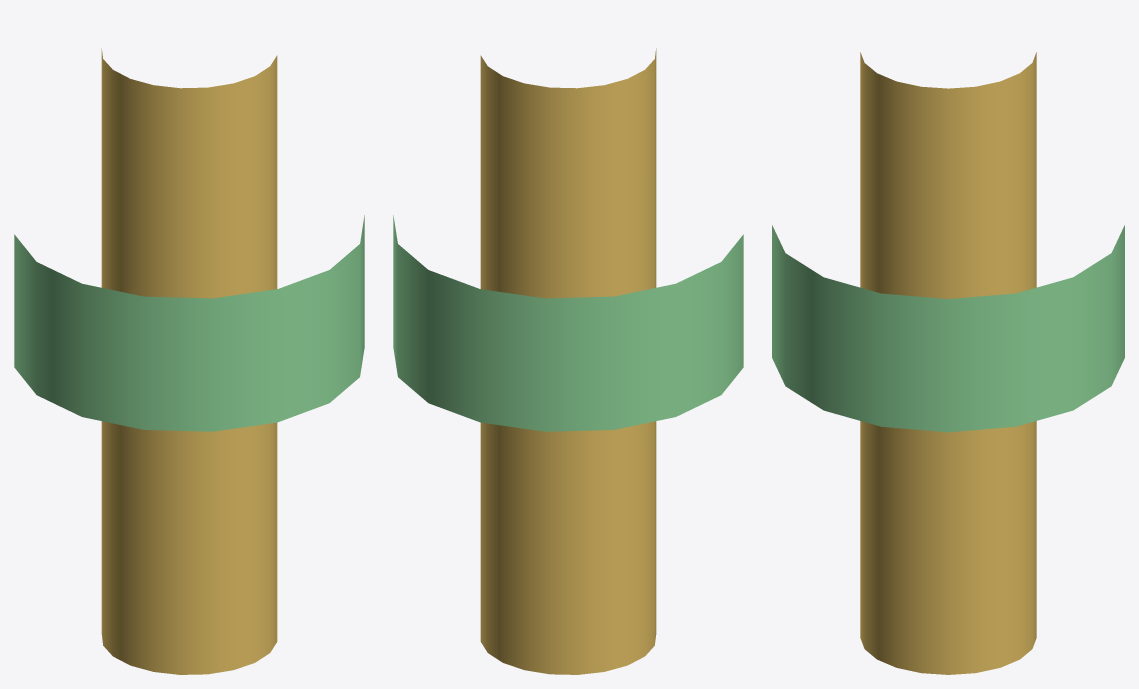
Rendered from power_screw.glb.
The picture shows the model from 3 angles, left to right: view 1: azimuth 30°, elevation 25°; view 2: azimuth 150°, elevation 25°; view 3: azimuth 270°, elevation 25°; orthographic projection.
Parts seen in each view (by area): view 1: SquareThreadScrew, BronzeNut; view 2: SquareThreadScrew, BronzeNut; view 3: SquareThreadScrew, BronzeNut.
Part boxes in pixels (x1,y1,x2,y2): SquareThreadScrew: (101, 48, 277, 674); BronzeNut: (14, 215, 364, 431); SquareThreadScrew: (480, 48, 656, 674); BronzeNut: (393, 215, 743, 431); SquareThreadScrew: (860, 52, 1036, 674); BronzeNut: (772, 225, 1124, 432).
Bounding box in the file's own units: 1.2 × 2.2 × 1.2.
